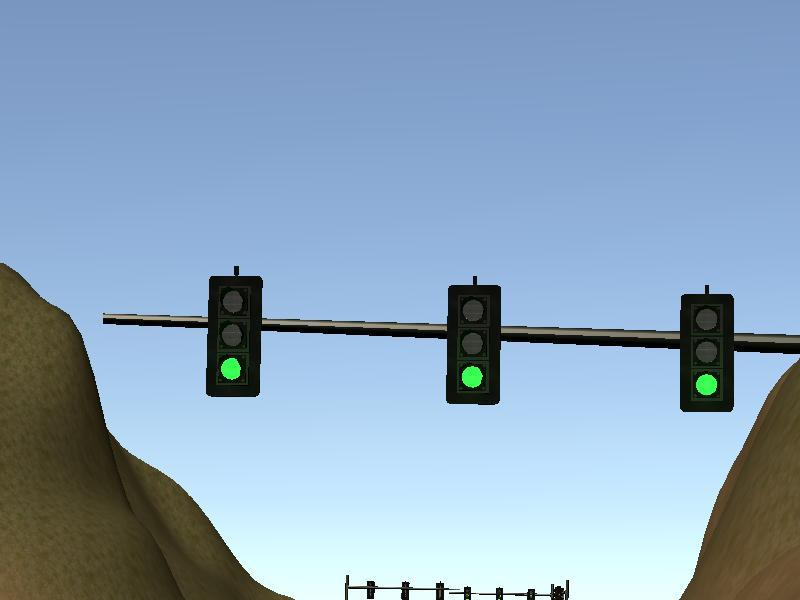Green: (208, 277, 260, 396), (449, 288, 500, 405), (682, 297, 733, 410)
